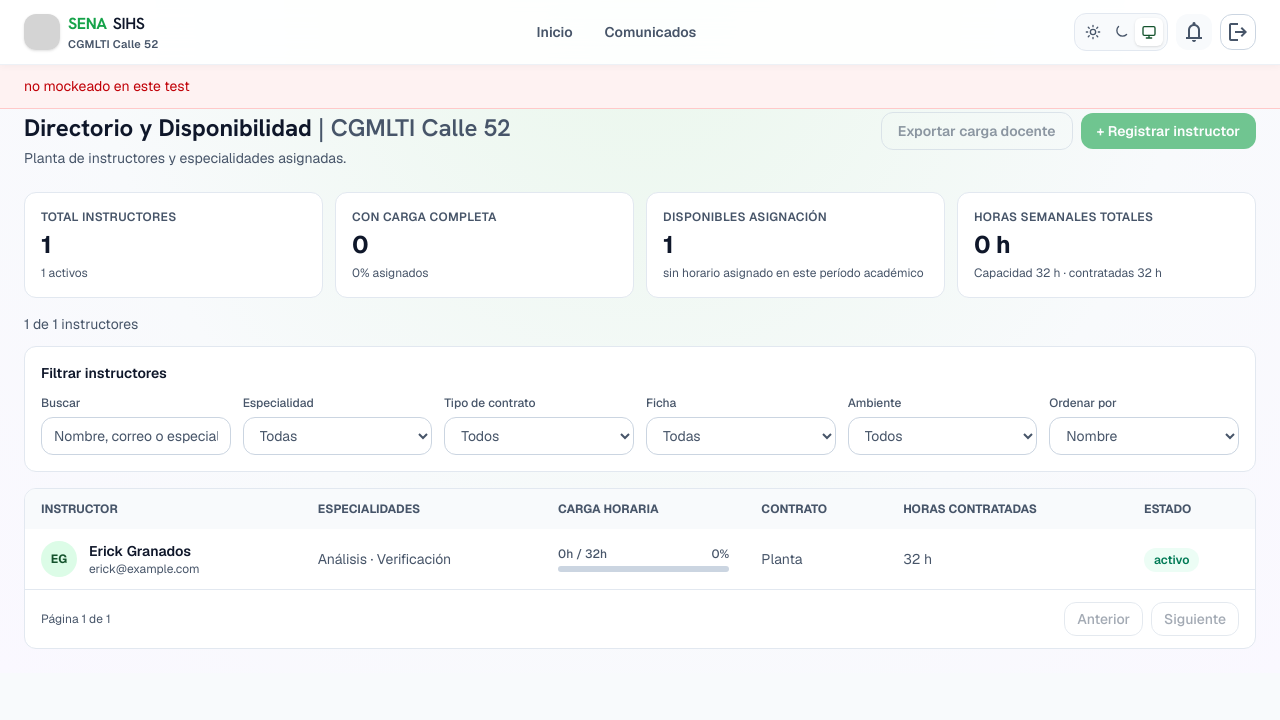
Test: Instructores › muestra "sin horario asignado" cuando el instructor no tiene ningún bloque
Click the text "Erick Granados": (144, 551) [89,541,200,561]
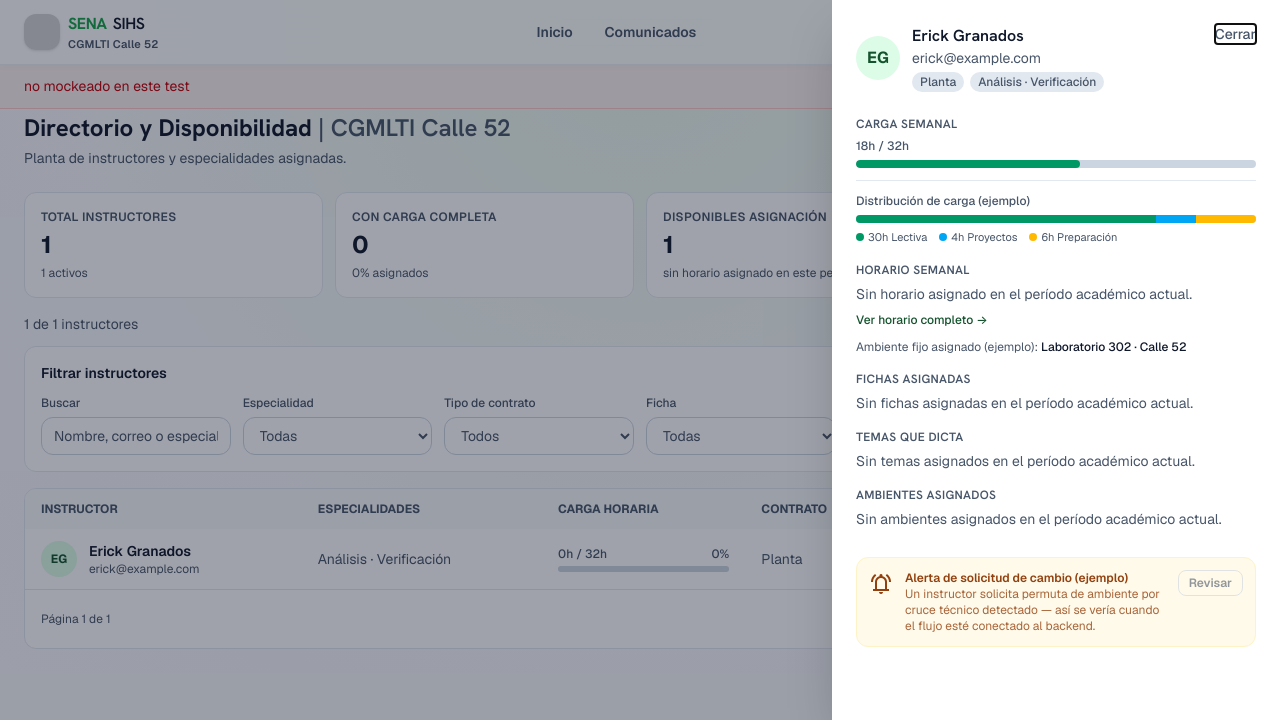
Expected: the text "Sin horario asignado en el período académico actual." is shown, [856,284,1192,302]
